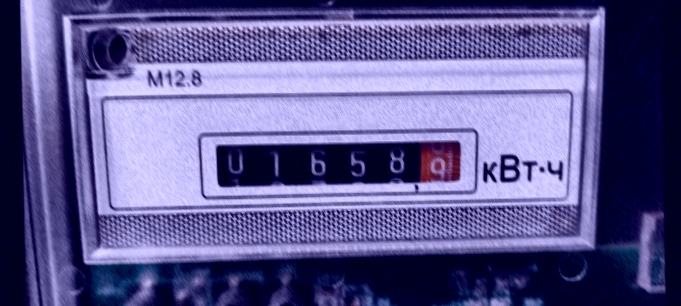0: (223, 143, 244, 176)
1: (267, 147, 280, 178)
5: (347, 146, 366, 178)
6: (307, 146, 327, 177)
8: (386, 143, 405, 176)
9: (426, 155, 445, 181)
screen: (189, 119, 482, 203)
